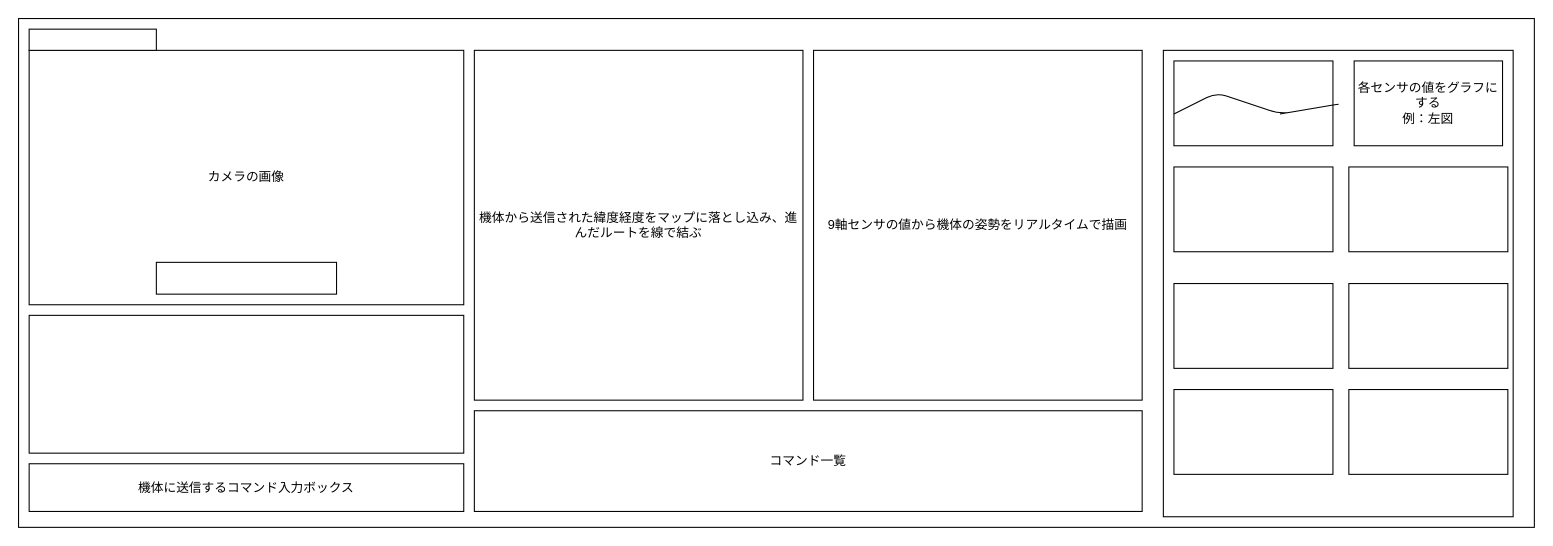
Image size: 1553x546. Some labels were removed from this diagram. Here are the shapes that lost their labels. From the top down, the centre of each, then its label:
At (x=92, y=39): "撮影日時".
At (x=246, y=277): "◀ 画像の切り替えボタン ▶".
At (x=246, y=383): "機体から送られてきた最新のセンサ値 例：x軸加速度（9軸センサー） 0.203".
